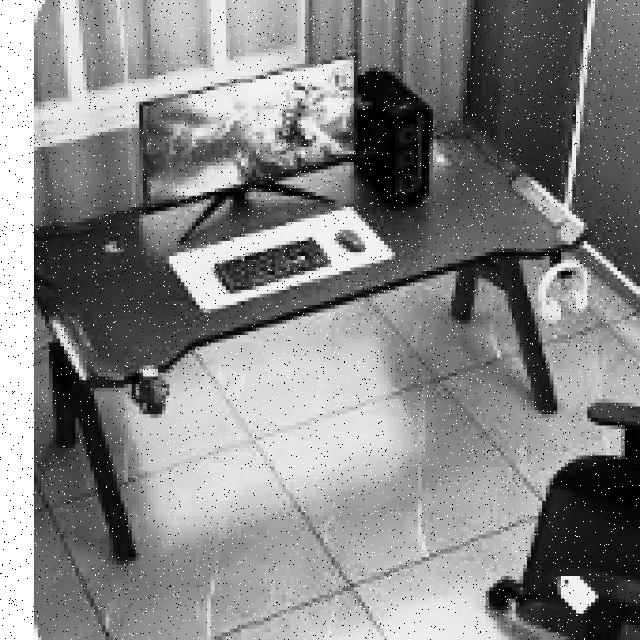book: (489, 399, 640, 640)
table: (38, 117, 591, 561)
